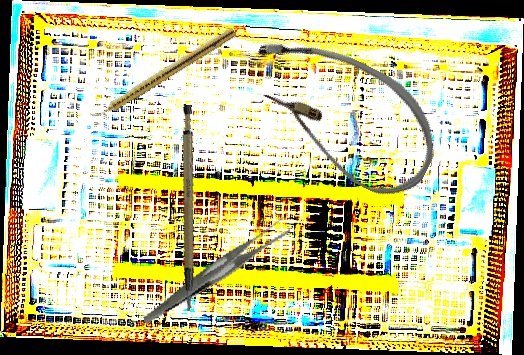Cannula: (225, 18, 457, 210)
Dressing Forceps: (127, 216, 304, 324)
Handpiece: (88, 24, 238, 124)
Scalpel Handle: (151, 103, 221, 312)
